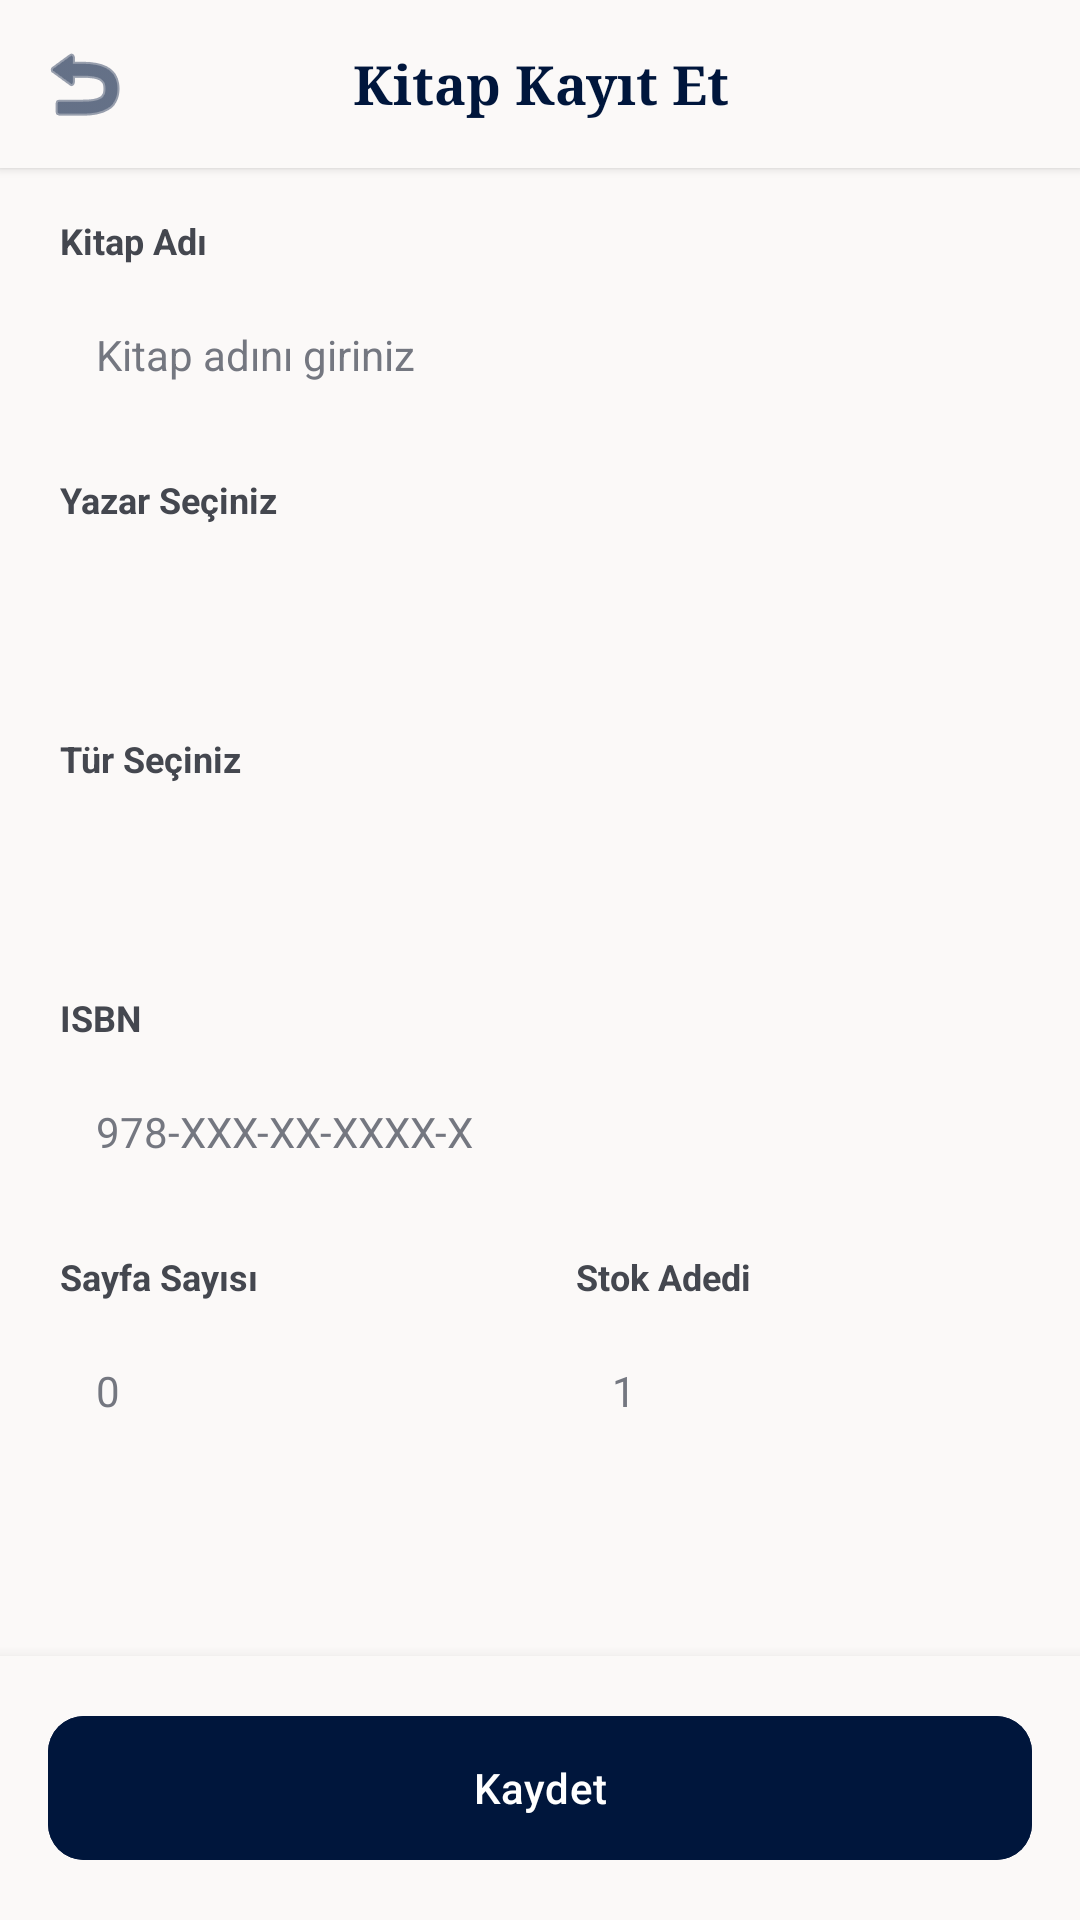

Screen size 1080px x 1920px. Icon name, then its box in pixels as [x1, y1, x2, y2]:
Geri: [51, 53, 120, 116]
